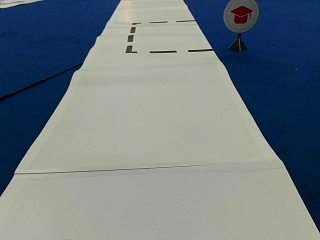school: (222, 1, 258, 32)
